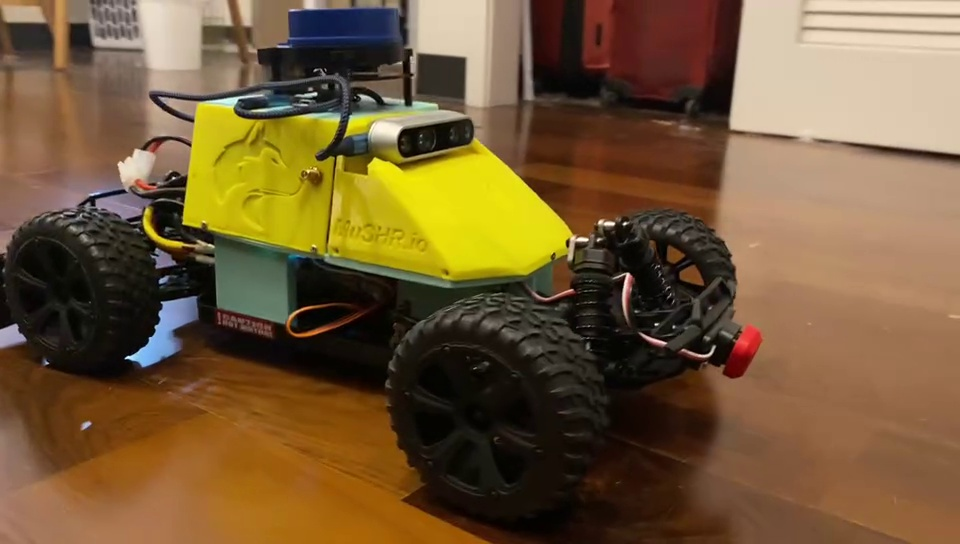mushr_car: (1, 4, 767, 527)
